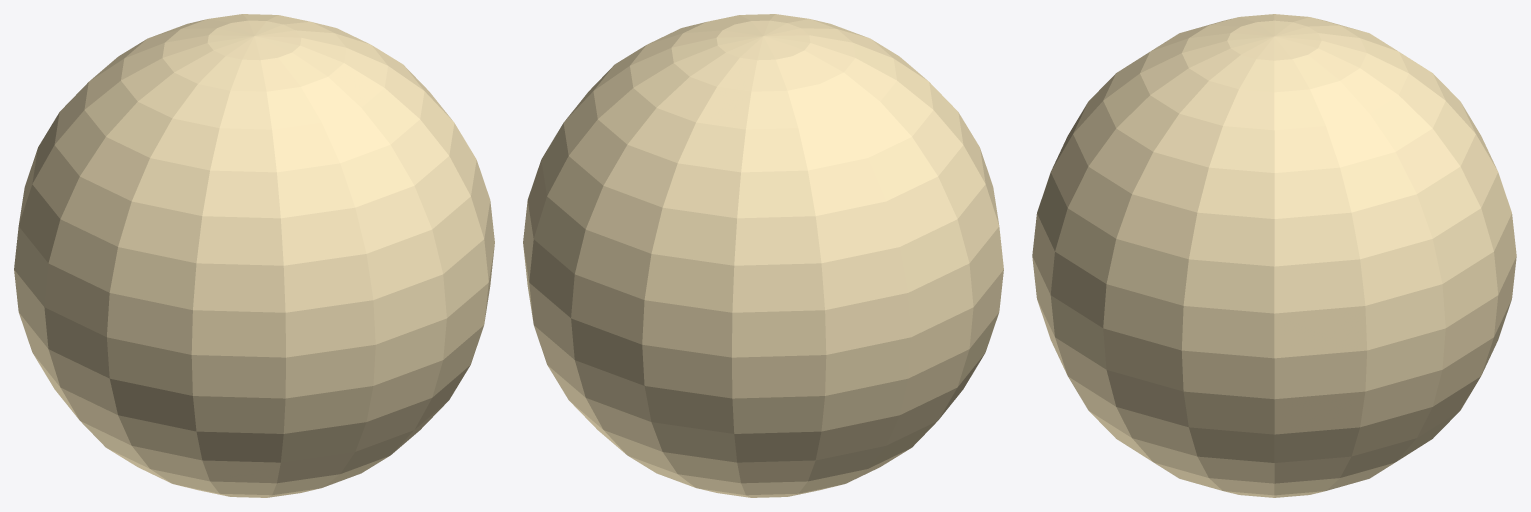
The model's file is Arm_R.obj.
The picture shows the model from 3 angles, left to right: view 1: azimuth 30°, elevation 25°; view 2: azimuth 150°, elevation 25°; view 3: azimuth 270°, elevation 25°; orthographic projection.
Visible parts, largest first — view 1: C_Arm_R; view 2: C_Arm_R; view 3: C_Arm_R.
Boxes of the visible parts, left/top/right/bottom form: C_Arm_R: left=14, top=14, right=494, bottom=497; C_Arm_R: left=523, top=14, right=1003, bottom=497; C_Arm_R: left=1032, top=14, right=1516, bottom=497.
Bounding box in the file's own units: 0.3 × 0.3 × 0.3.
1 material, 1 textured.
